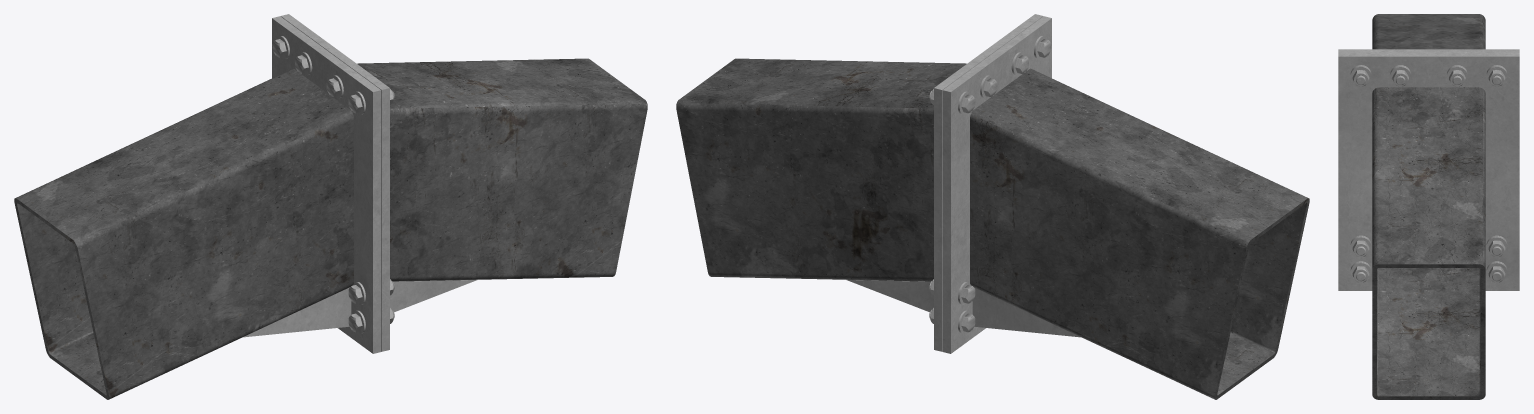
The model's file is Flange.fbx.
The picture shows the model from 3 angles, left to right: view 1: azimuth 30°, elevation 25°; view 2: azimuth 150°, elevation 25°; view 3: azimuth 270°, elevation 25°; orthographic projection. The views are drawn at different scales.
Parts seen in each view (by area): view 1: Beam, Plate, Bolt; view 2: Beam, Plate, Bolt; view 3: Beam, Plate, Bolt.
Boxes of the visible parts, box(x1,y1,x2,y2) form: Beam: box(14, 58, 647, 399); Plate: box(243, 14, 477, 353); Bolt: box(272, 36, 394, 333); Beam: box(676, 58, 1309, 399); Plate: box(846, 14, 1080, 353); Bolt: box(929, 36, 1051, 333); Beam: box(1372, 14, 1485, 399); Plate: box(1338, 49, 1519, 290); Bolt: box(1350, 65, 1507, 282).
Bounding box in the file's own units: 1045 × 320 × 461.
2 materials, 2 textured.
